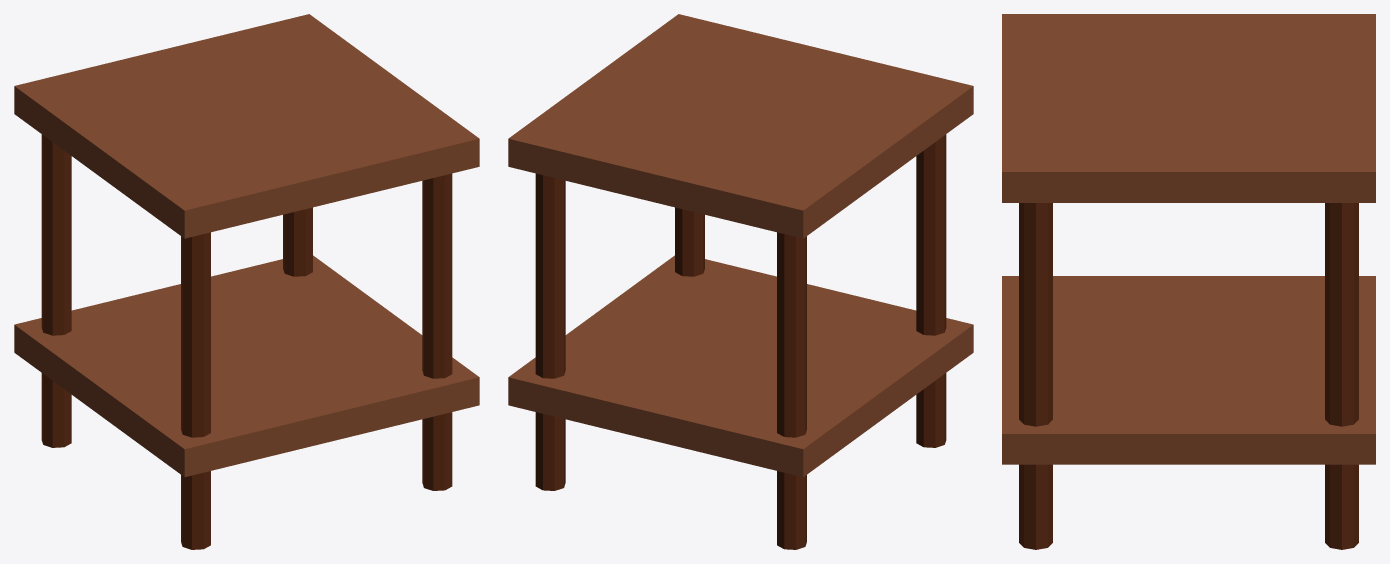
File: Side Table.fbx
The picture shows the model from 3 angles, left to right: view 1: azimuth 30°, elevation 25°; view 2: azimuth 150°, elevation 25°; view 3: azimuth 270°, elevation 25°; orthographic projection. The views are drawn at different scales.
Parts seen in each view (by area): view 1: Side Table; view 2: Side Table; view 3: Side Table.
Part boxes in pixels (x1,y1,x2,y2): Side Table: [14, 14, 479, 549]; Side Table: [508, 14, 973, 549]; Side Table: [1002, 14, 1375, 549].
Size of the model in its own units: 2200 by 2500 by 2200.
